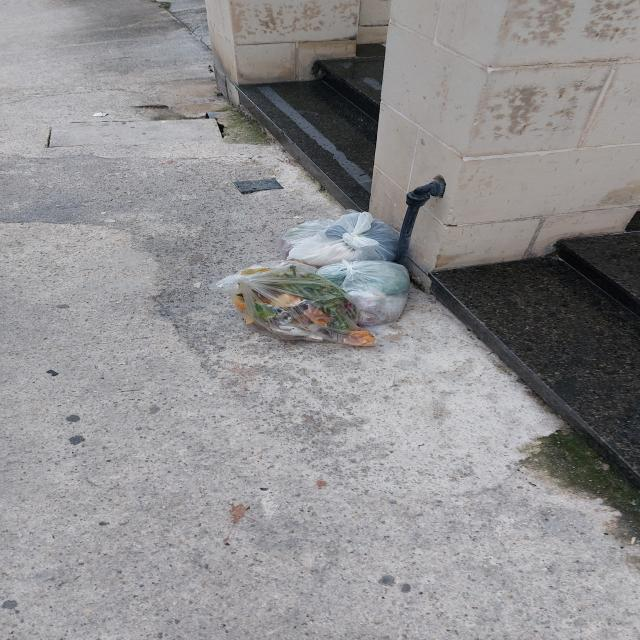Organic Waste -White Bag-: (209, 261, 379, 348), (279, 209, 404, 272), (317, 261, 412, 334)
